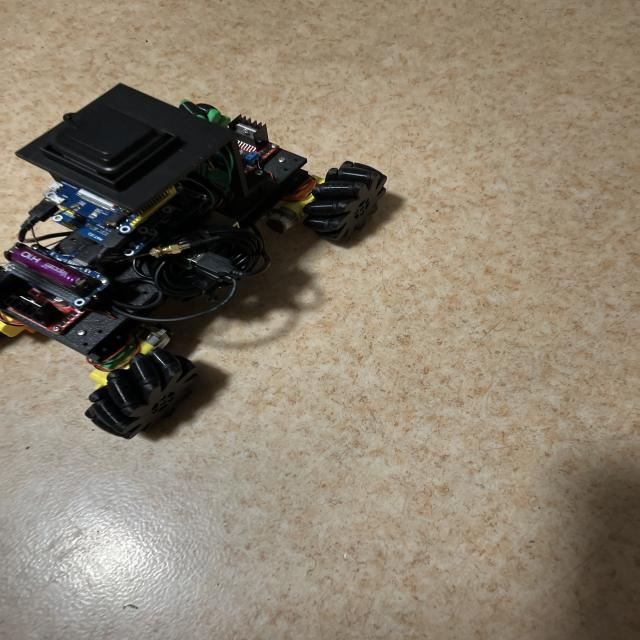robot: (0, 84, 387, 438)
